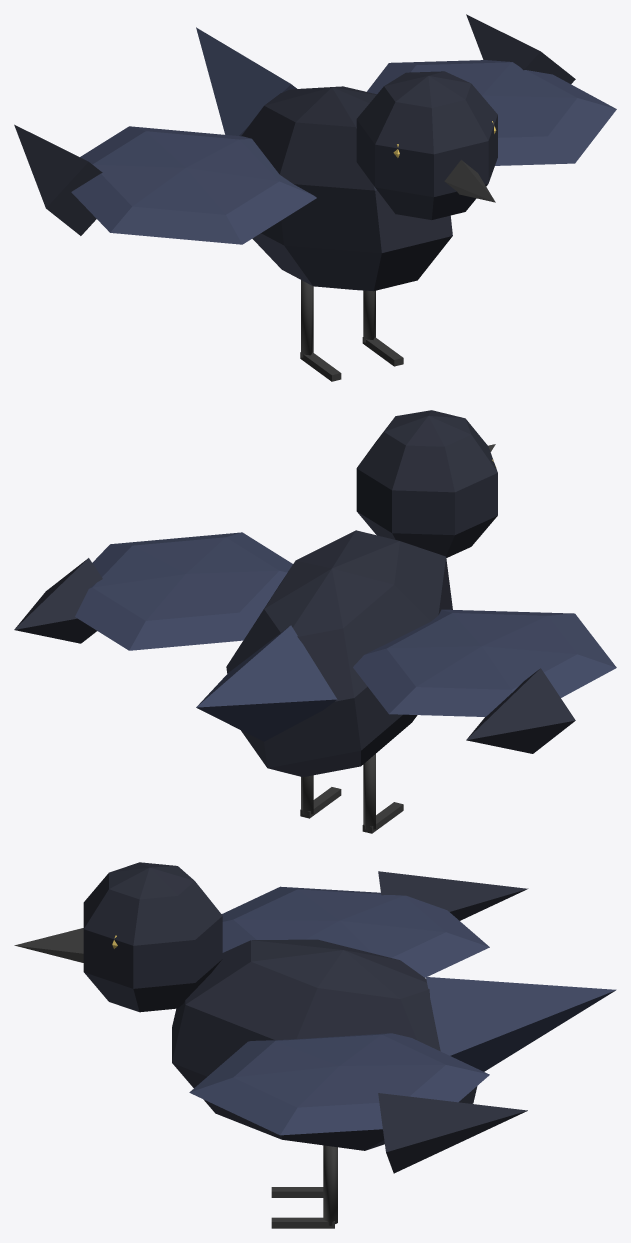
File: crow.glb
3 renders of one model, top to bottom at view 1: azimuth 30°, elevation 25°; view 2: azimuth 150°, elevation 25°; view 3: azimuth 270°, elevation 25°, orthographic.
Visible parts, largest first — view 1: BodyMesh, WingLMesh, HeadMesh, WingRMesh, LegLMesh, LegRMesh; view 2: BodyMesh, WingLMesh, WingRMesh, HeadMesh, LegLMesh, LegRMesh; view 3: BodyMesh, WingRMesh, HeadMesh, WingLMesh, LegRMesh, LegLMesh.
Boxes of the visible parts, x1=… form: BodyMesh: x1=196, y1=27, x2=452, y2=291; WingLMesh: x1=14, y1=124, x2=316, y2=244; HeadMesh: x1=356, y1=71, x2=497, y2=219; WingRMesh: x1=367, y1=14, x2=616, y2=165; LegLMesh: x1=300, y1=280, x2=341, y2=381; LegRMesh: x1=362, y1=290, x2=403, y2=366; BodyMesh: x1=196, y1=530, x2=452, y2=777; WingLMesh: x1=353, y1=609, x2=616, y2=753; WingRMesh: x1=14, y1=532, x2=292, y2=650; HeadMesh: x1=356, y1=410, x2=497, y2=557; LegLMesh: x1=362, y1=754, x2=403, y2=833; LegRMesh: x1=300, y1=775, x2=341, y2=818; BodyMesh: x1=172, y1=939, x2=616, y2=1150; WingRMesh: x1=189, y1=1033, x2=527, y2=1173; HeadMesh: x1=14, y1=862, x2=222, y2=1012; WingLMesh: x1=221, y1=871, x2=528, y2=977; LegRMesh: x1=271, y1=1145, x2=337, y2=1228; LegLMesh: x1=271, y1=1187, x2=323, y2=1197.
Bounding box in the file's own units: 0.68 × 0.419 × 0.6666.
